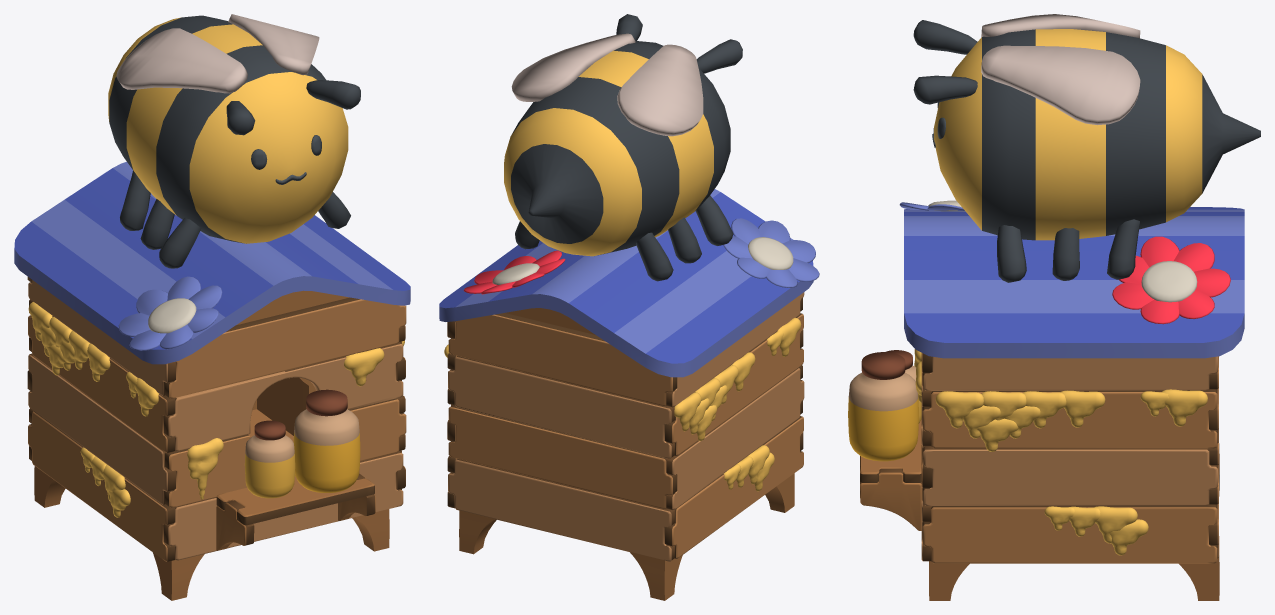
File: Bee House.fbx
3 views of the same model, side by side, from view 1: azimuth 30°, elevation 25°; view 2: azimuth 150°, elevation 25°; view 3: azimuth 270°, elevation 25° (orthographic). The views are drawn at different scales.
Visible parts, largest first — view 1: Bee House, Bee House.004, Bee House.001, Bee House.003, Bee House.002; view 2: Bee House, Bee House.004, Bee House.003, Bee House.005; view 3: Bee House, Bee House.004, Bee House.005, Bee House.001.
Part boxes in pixels (x1,y1,x2,y2): Bee House: [14, 161, 410, 600]; Bee House.004: [108, 14, 360, 268]; Bee House.001: [293, 389, 360, 492]; Bee House.003: [118, 276, 222, 350]; Bee House.002: [244, 420, 295, 498]; Bee House: [439, 189, 813, 600]; Bee House.004: [504, 14, 742, 281]; Bee House.003: [723, 218, 819, 287]; Bee House.005: [463, 250, 565, 294]; Bee House: [860, 207, 1244, 600]; Bee House.004: [913, 14, 1260, 282]; Bee House.005: [1112, 236, 1230, 324]; Bee House.001: [848, 352, 918, 461].
Bounding box in the file's own units: 7.16 × 12.27 × 8.87.
